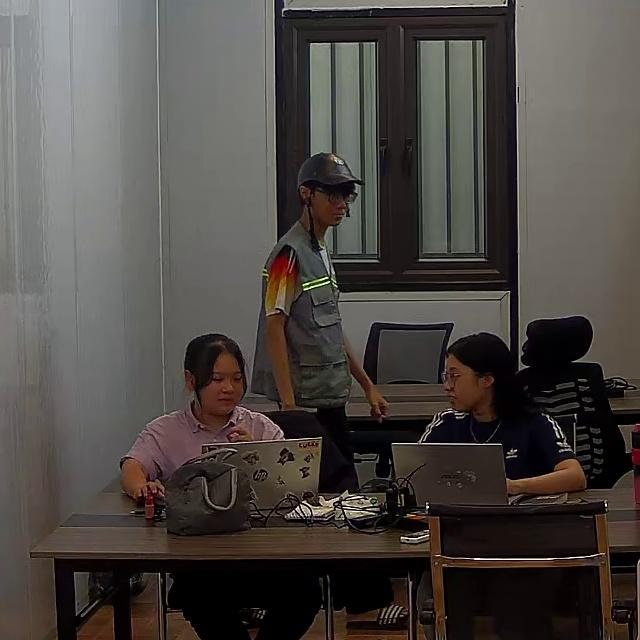helmet: (296, 150, 364, 192)
no_helmet: (448, 331, 541, 419), (184, 333, 246, 406)
none: (123, 403, 283, 491), (416, 405, 576, 492)
vest: (250, 223, 352, 407)
